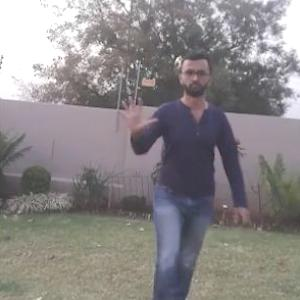follow_hand: (114, 92, 160, 130)
